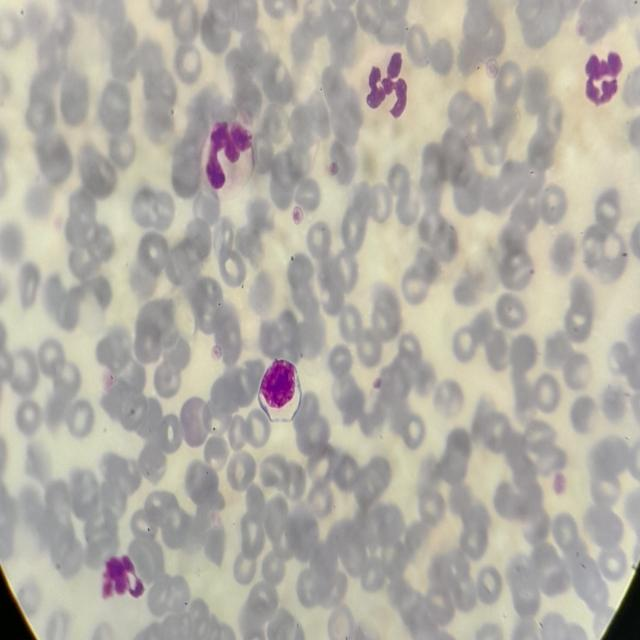Neutrofilo: (357, 44, 413, 131), (200, 117, 255, 199), (579, 33, 629, 120)
